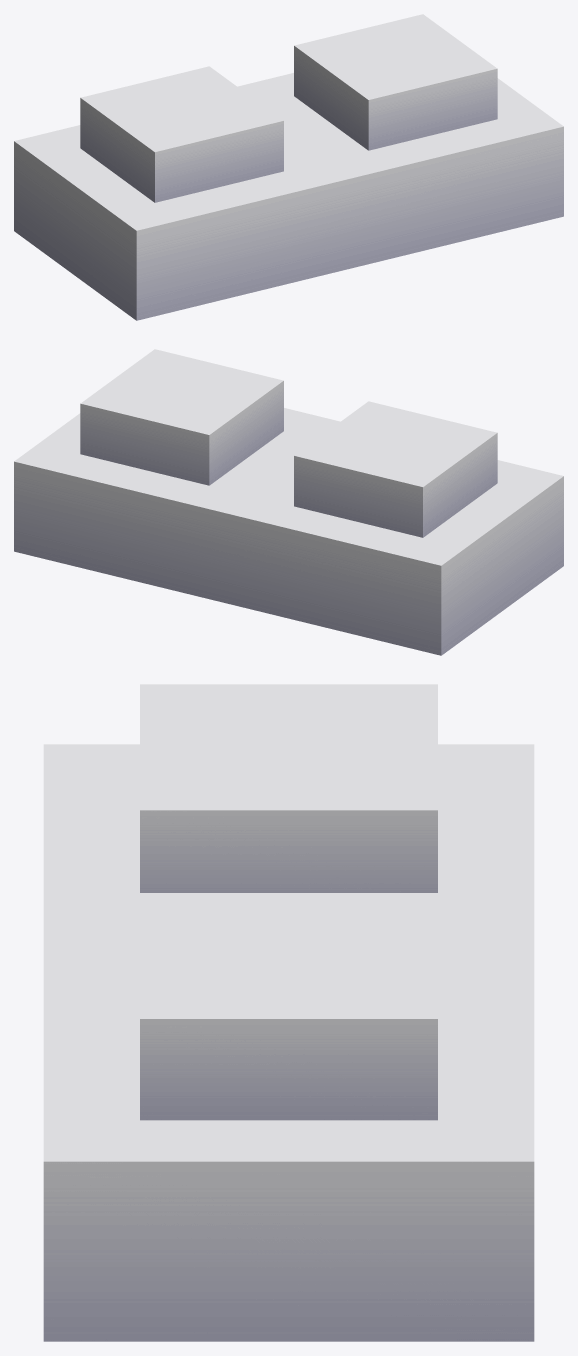
Rendered from brick-kit--square-lq-plate-1x2.glb.
3 renders of one model, top to bottom at view 1: azimuth 30°, elevation 25°; view 2: azimuth 150°, elevation 25°; view 3: azimuth 270°, elevation 25°, orthographic. The views are drawn at different scales.
Parts seen in each view (by area): view 1: square-lq-plate-1x2; view 2: square-lq-plate-1x2; view 3: square-lq-plate-1x2.
Part boxes in pixels (x1=…): square-lq-plate-1x2: x1=14, y1=14, x2=563, y2=320; square-lq-plate-1x2: x1=14, y1=349, x2=563, y2=655; square-lq-plate-1x2: x1=43, y1=684, x2=534, y2=1341.
Size of the model in its own units: 0.159 by 0.05 by 0.079.
Materials: 1 (1 with a texture image).
